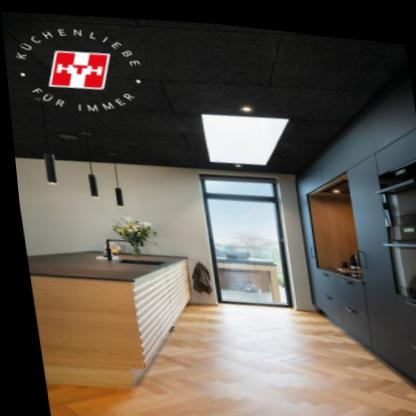Wooden floor: (39, 296, 416, 416)
